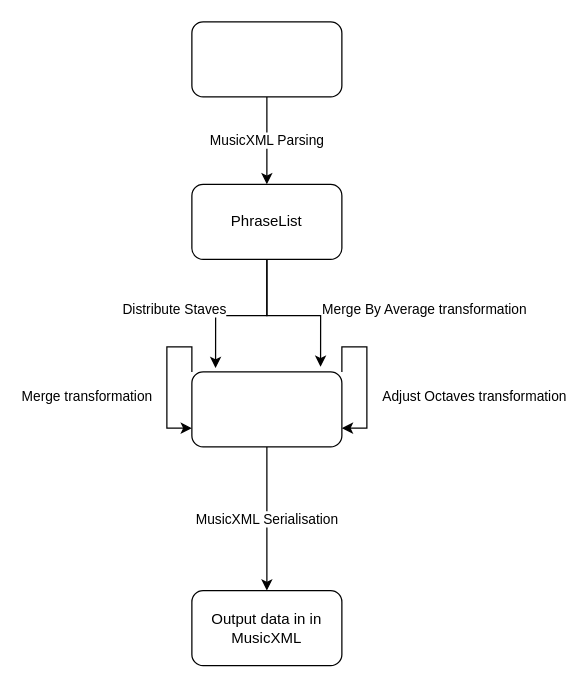
The diagram is 588 pixels wide and 688 high, and some of its shapes have lost their labels. Each missing label, with the centre of its shape:
"Input in MusicXML" goes at point (266, 59).
"StaveList" goes at point (266, 409).
